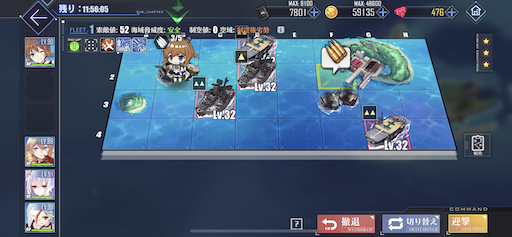lv1: (235, 50, 279, 92)
lv2: (361, 104, 411, 150), (192, 77, 236, 118), (236, 25, 276, 61)
